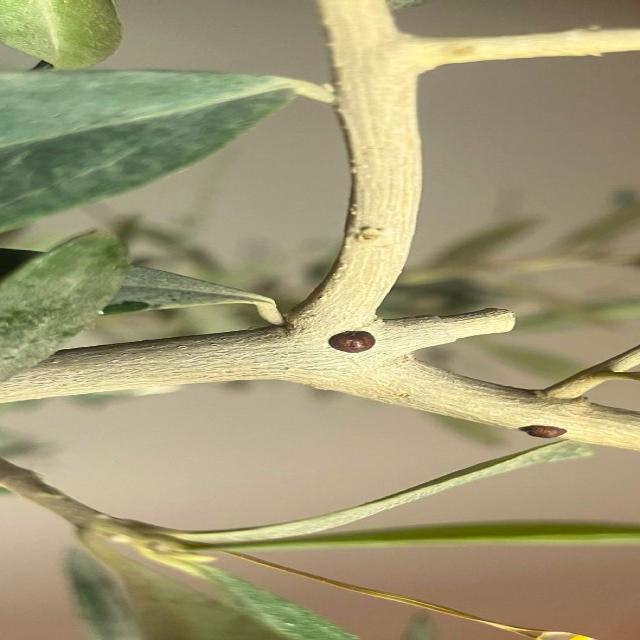Black Scale: (328, 331, 375, 353), (519, 425, 565, 438)
